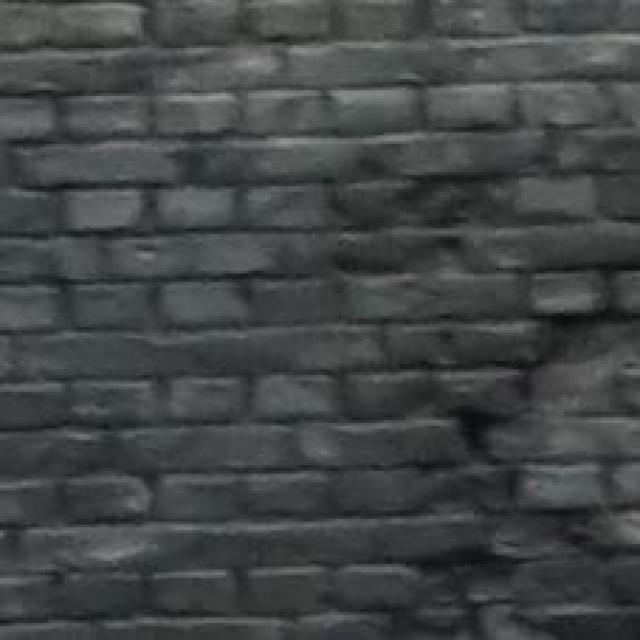Crack: (377, 162, 640, 640)
